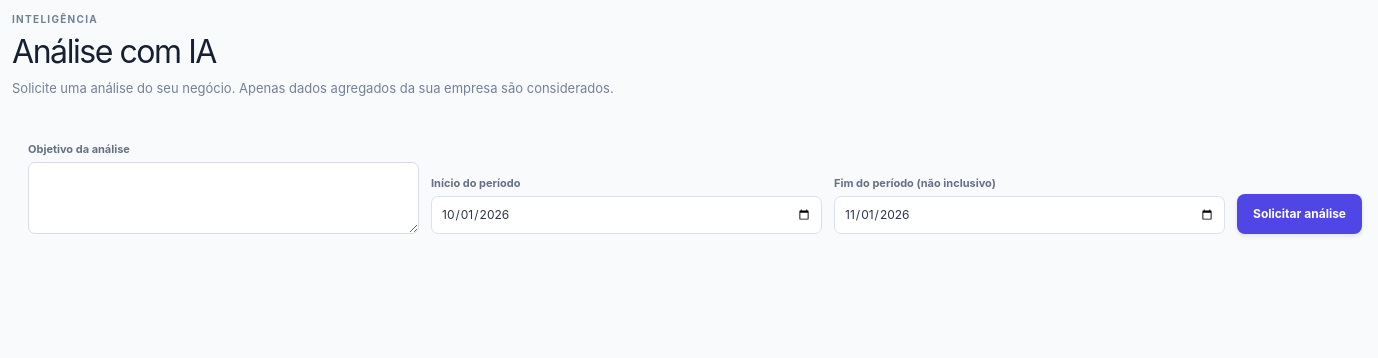
Test: Backoffice AIAnalysisPage › shows a safe error and reuses the idempotency key when retrying the same input
The width and height of the screenshot is (1378, 358).
Type "Entender o desempenho de vendas" into the text box labelled "Objetivo da análise".
click(224, 198); type("Entender o desempenho de vendas")  # box [28,162,419,234]
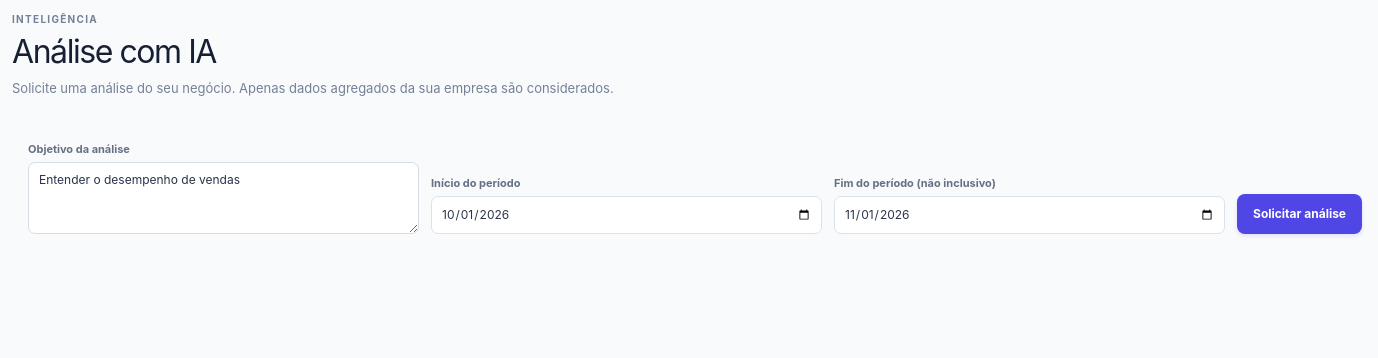
Type "2030-02-01" into the date field labelled "Início do período".
click(626, 215); type("2030-02-01")  # box [431,196,822,234]
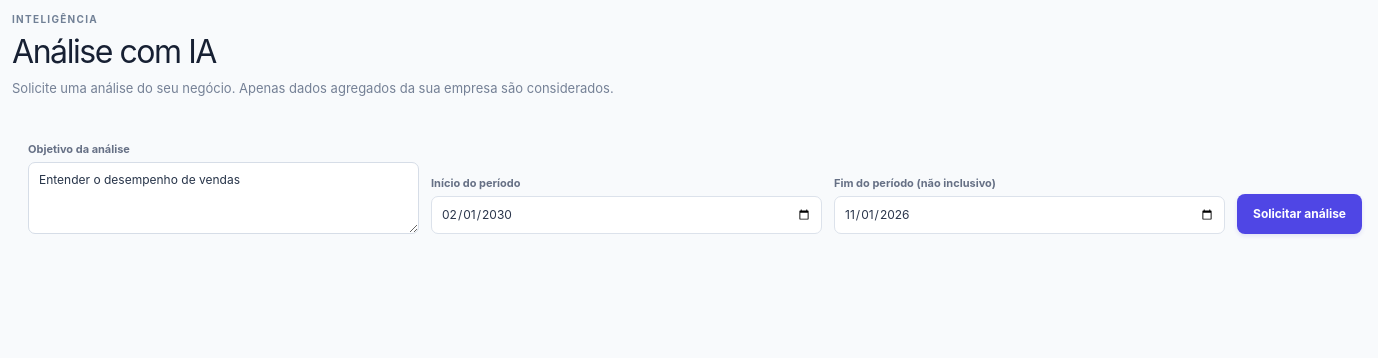
Type "2030-03-01" into the date field labelled "Fim do período (não inclusivo)".
click(1030, 215); type("2030-03-01")  # box [834,196,1225,234]
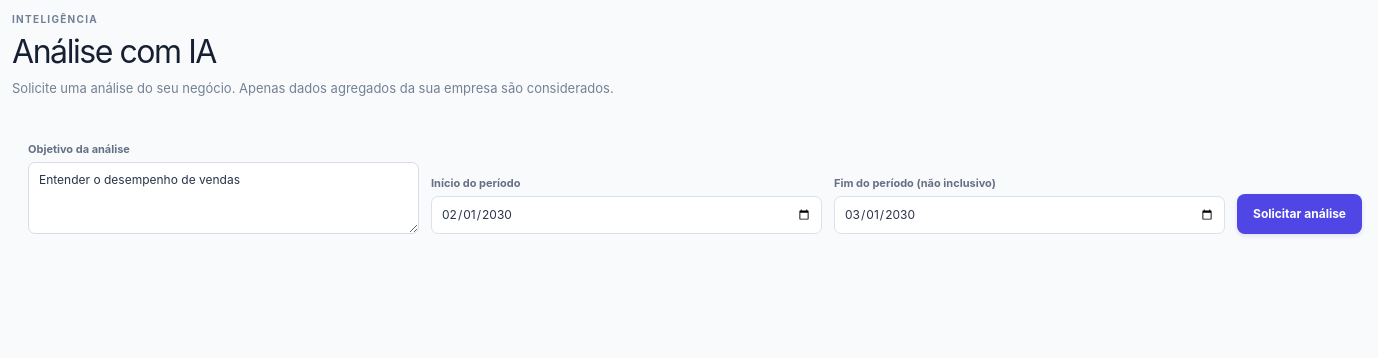
Click the button "Solicitar análise".
click(1300, 214)  # box [1237,194,1362,234]
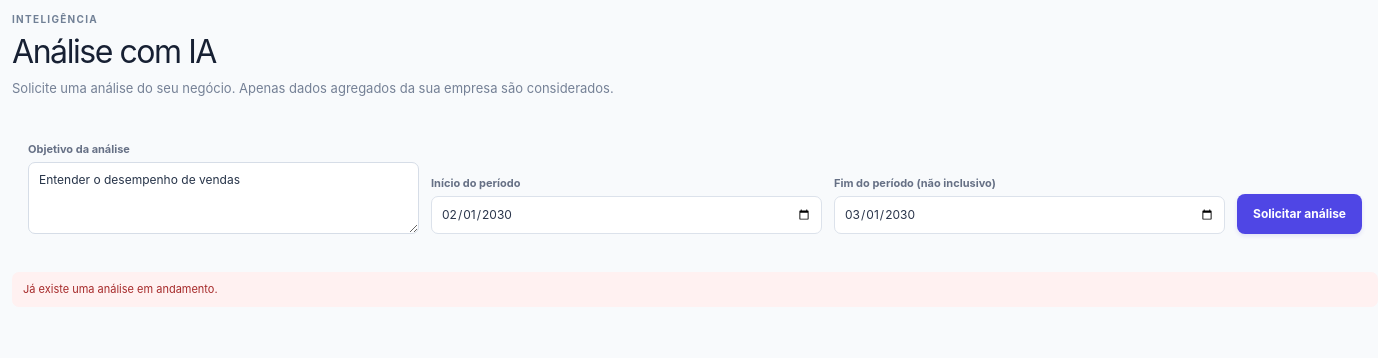
Now the message shows "Já existe uma análise", box [23,282,218,296]
Click the button "Solicitar análise".
click(1300, 214)  # box [1237,194,1362,234]
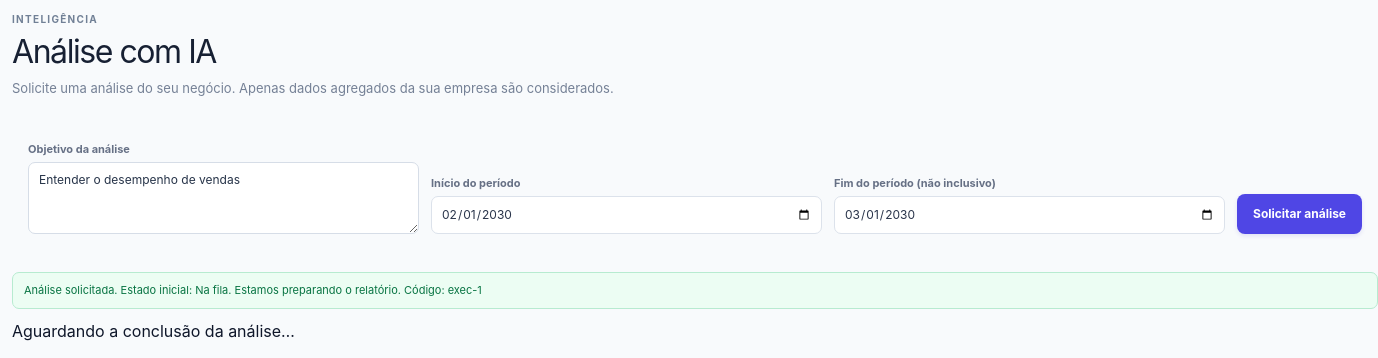
Now the text "Na fila" is shown, box [24,283,401,297]
